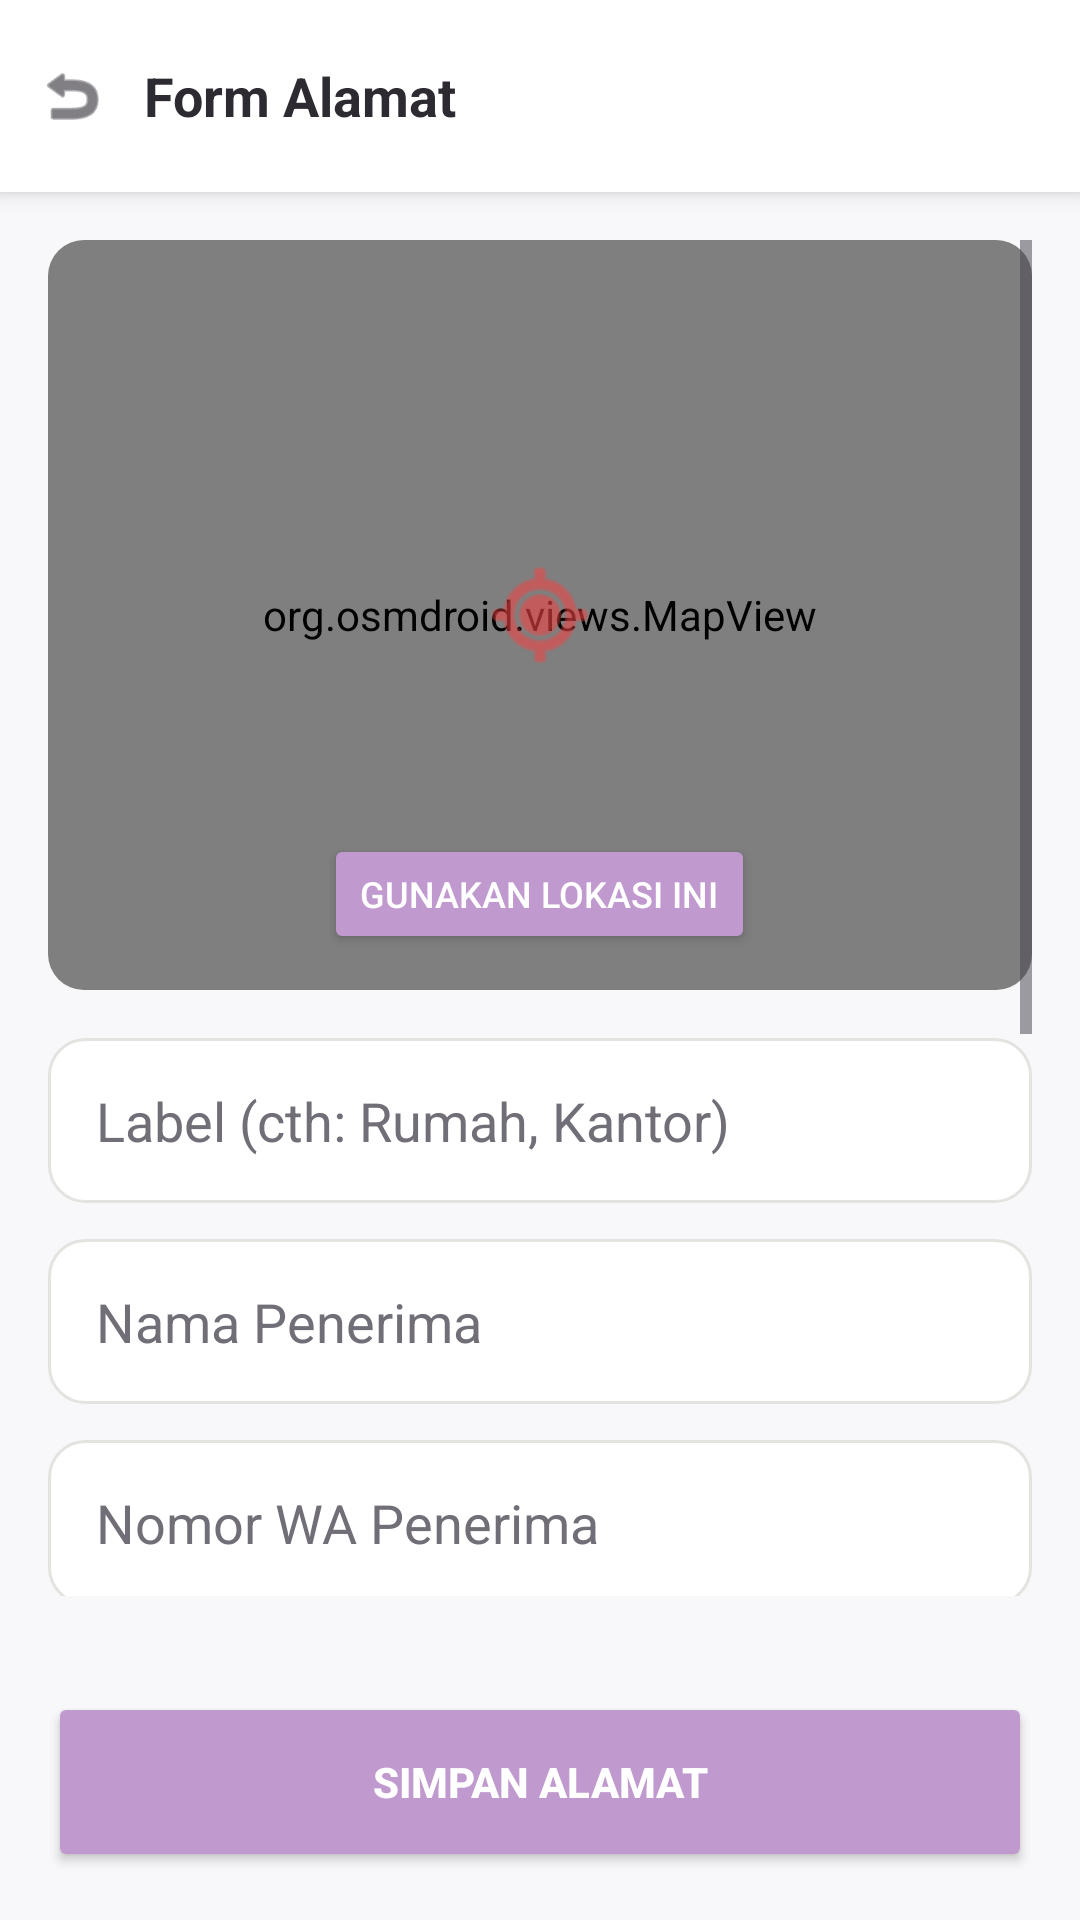

Point at icon controls on the screen. Image size 1080 x 1920, points as [x,y].
revert: [73,96]
